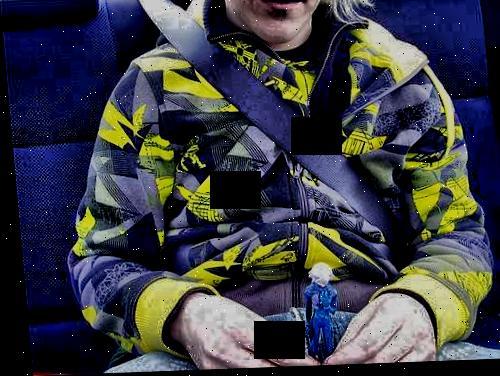seatbelt: (125, 0, 401, 251)
